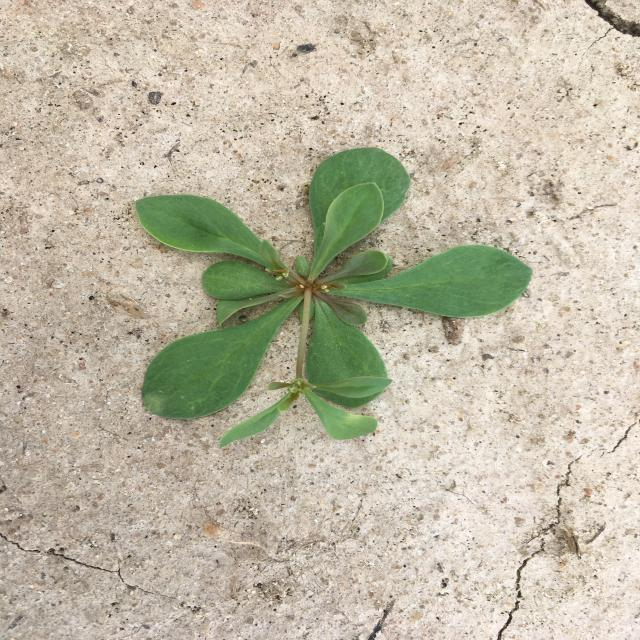Carpetweed: (135, 146, 534, 448)
